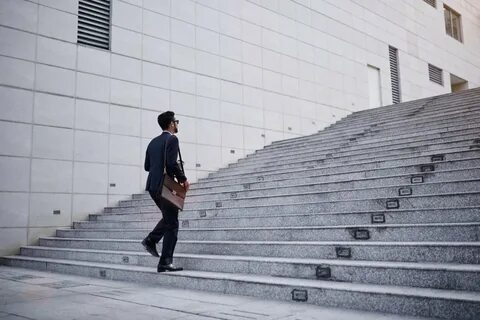awake: (140, 110, 189, 273)
